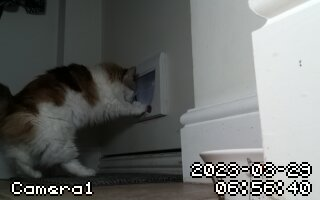clara: (5, 53, 154, 179)
